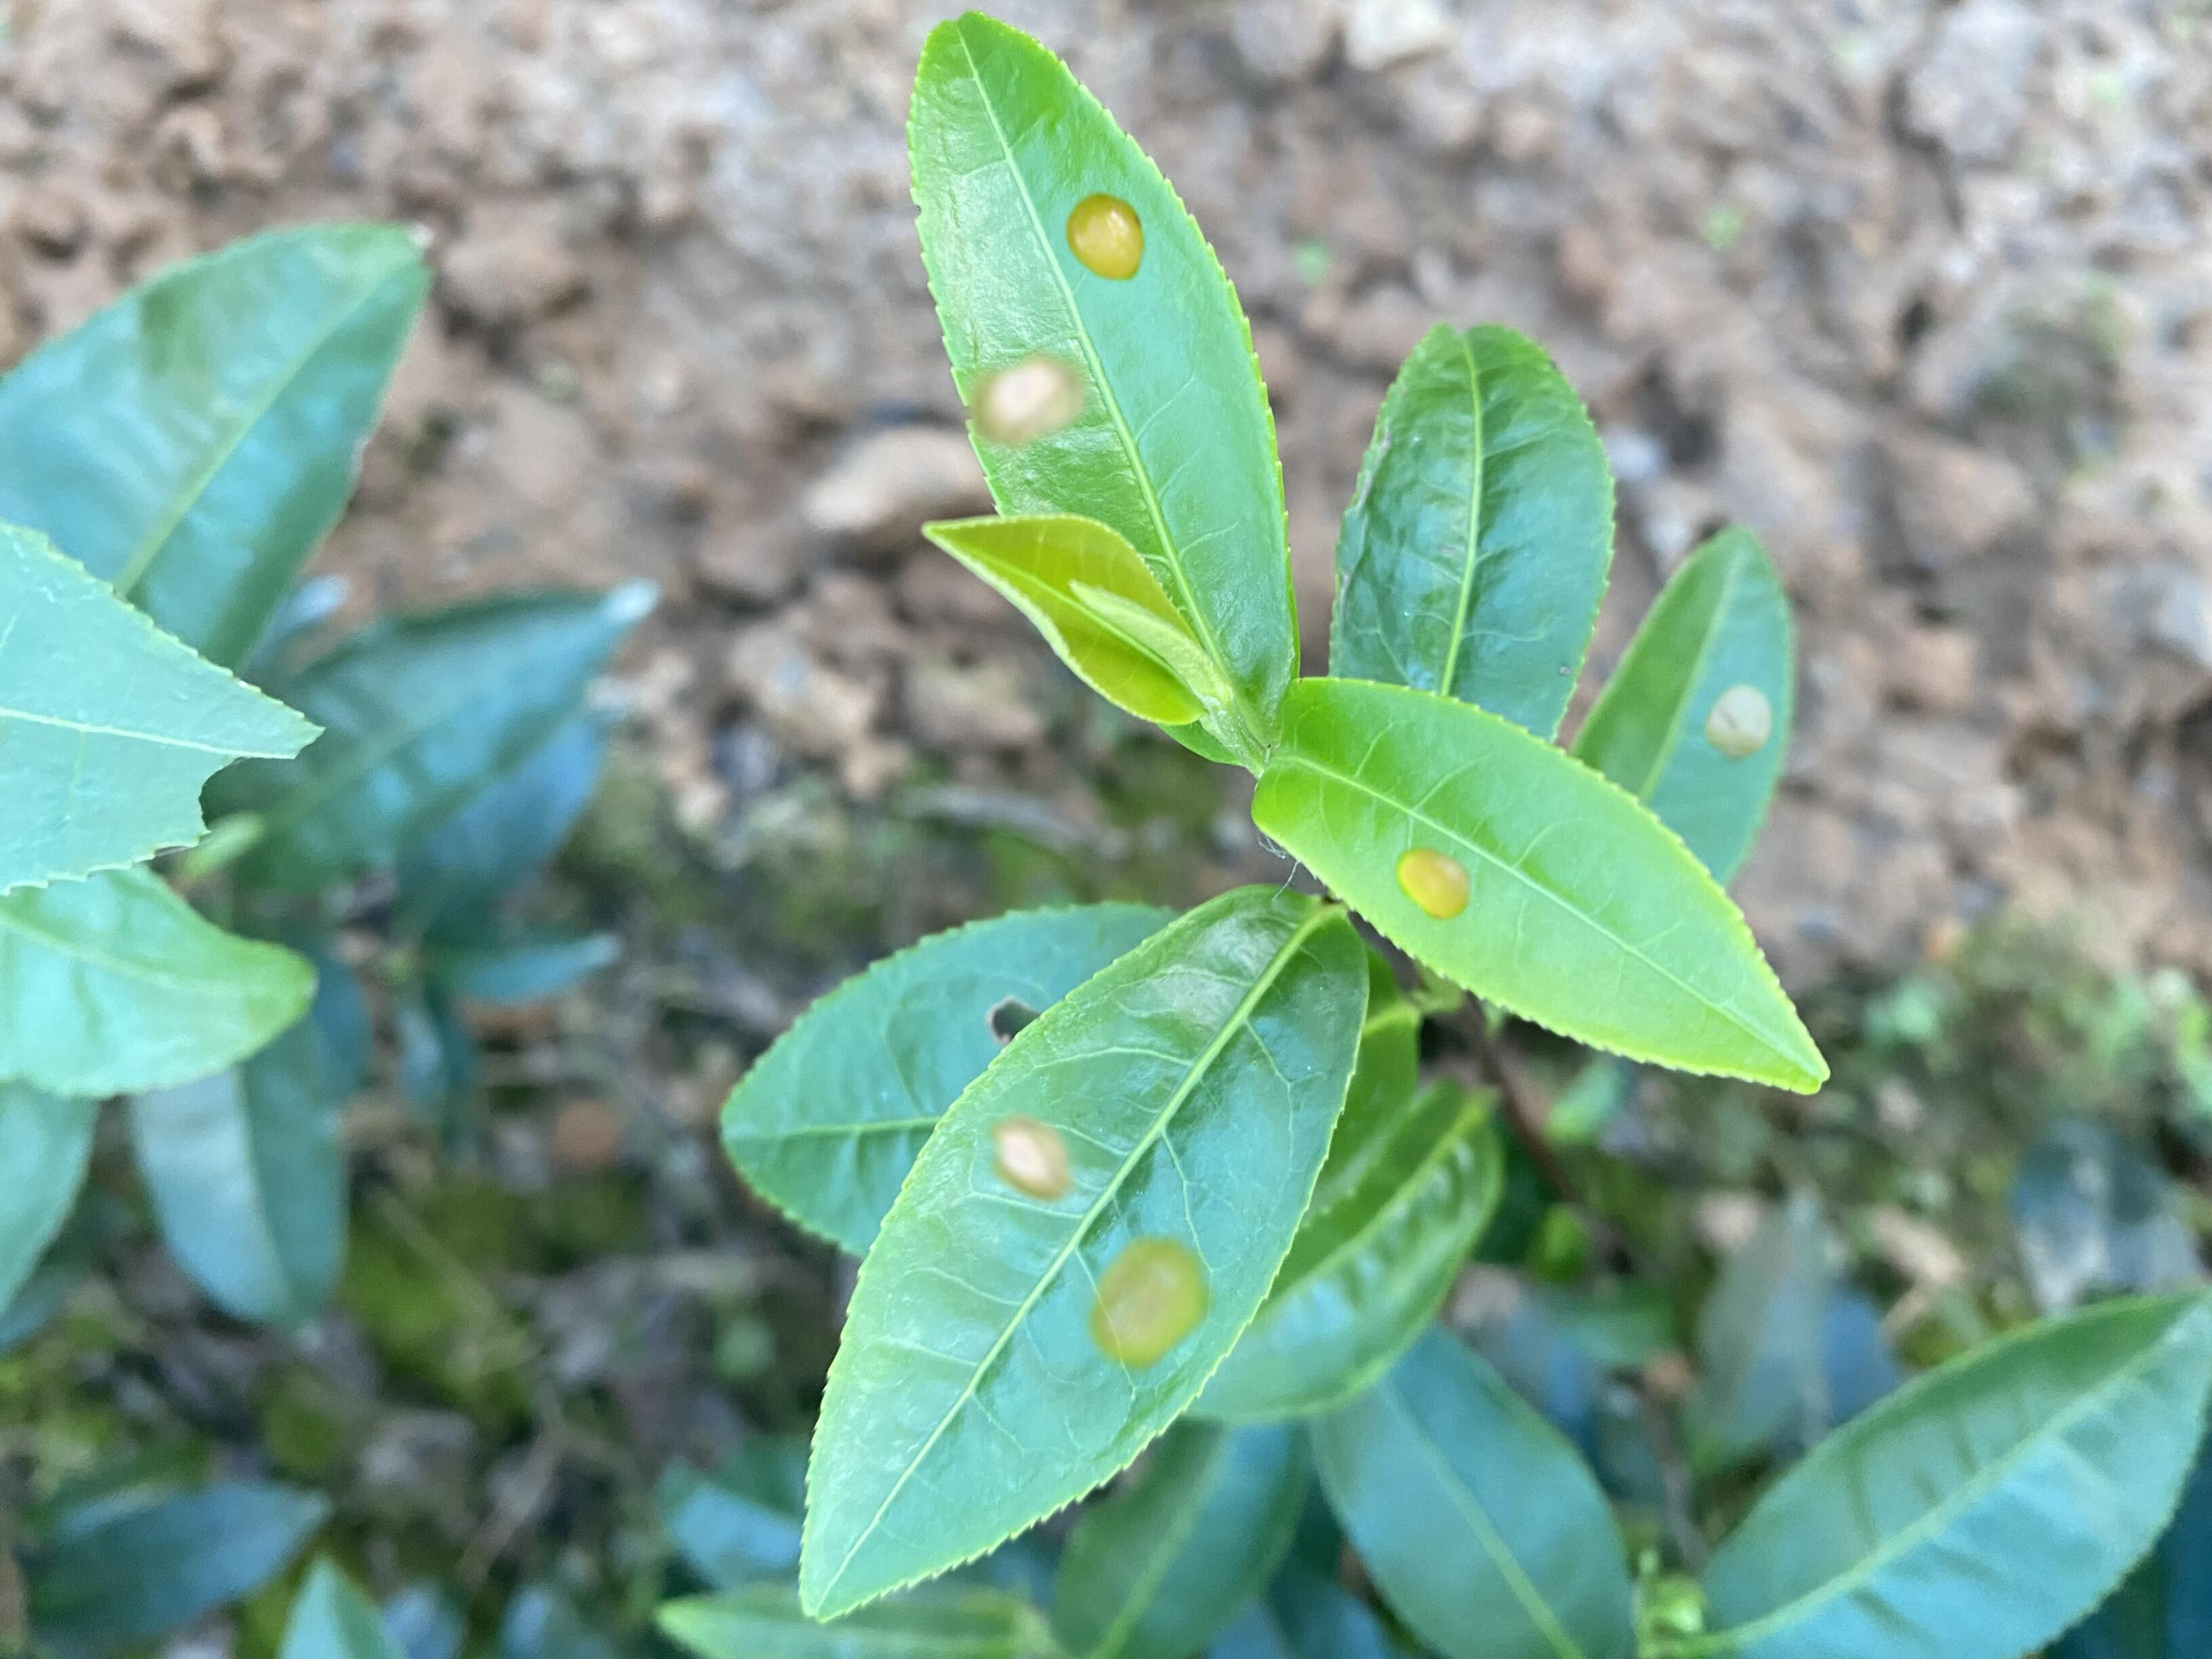chabing_high: (798, 884, 1369, 1622), (904, 12, 1301, 767)
chabing_low: (1249, 676, 1834, 1096), (1568, 523, 1796, 896)
chihuo_low: (2, 521, 331, 899)
healthy: (920, 512, 1221, 725)
